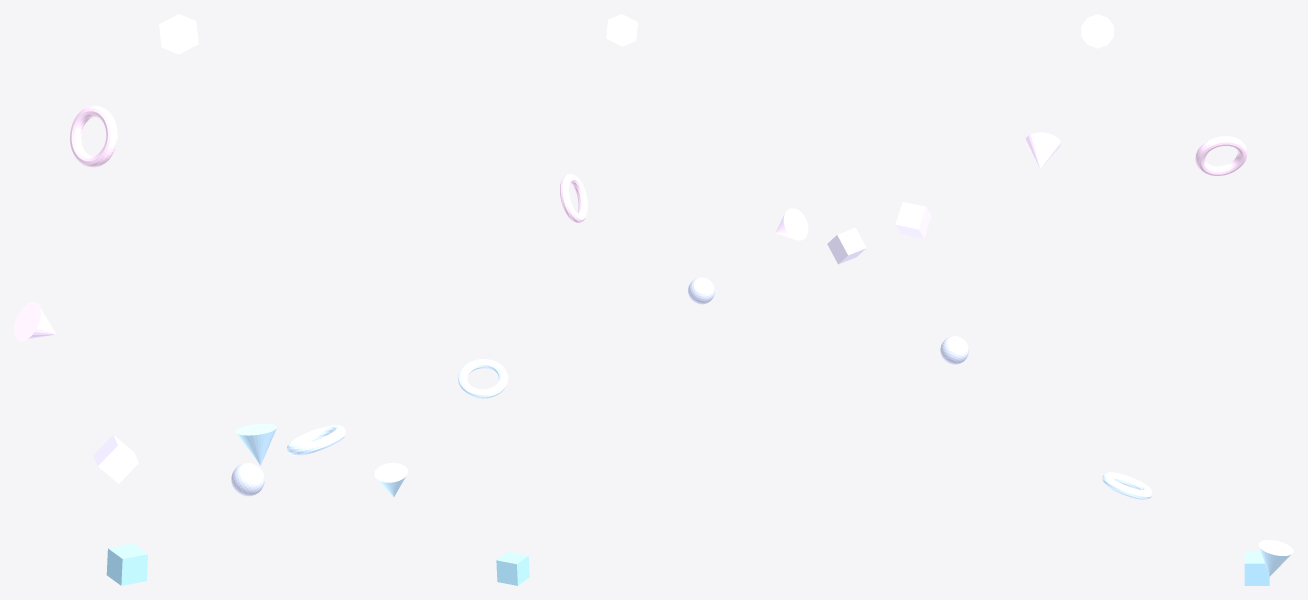
3 views of the same model, side by side, from view 1: azimuth 30°, elevation 25°; view 2: azimuth 150°, elevation 25°; view 3: azimuth 270°, elevation 25° (orthographic). The views are drawn at different scales.
Parts seen in each view (by area): view 1: Piece_worldfold_6, Piece_worldfold_0, Piece_worldfold_4, VFXProxy_worldfold, Piece_worldfold_2, Piece_worldfold_5, Piece_worldfold_1, Piece_worldfold_3; view 2: Piece_worldfold_2, Piece_worldfold_0, Piece_worldfold_6, Piece_worldfold_4, VFXProxy_worldfold, Piece_worldfold_5, Piece_worldfold_1; view 3: Piece_worldfold_6, Piece_worldfold_4, VFXProxy_worldfold, Piece_worldfold_2, Piece_worldfold_5, Piece_worldfold_1, Piece_worldfold_0, Piece_worldfold_3.
Part boxes in pixels (box(x1,y1,x2,y2)): Piece_worldfold_6: box(70, 105, 117, 167); Piece_worldfold_0: box(106, 543, 147, 585); Piece_worldfold_4: box(93, 435, 138, 483); VFXProxy_worldfold: box(159, 14, 198, 54); Piece_worldfold_2: box(287, 425, 345, 455); Piece_worldfold_5: box(14, 302, 56, 341); Piece_worldfold_1: box(235, 423, 276, 465); Piece_worldfold_3: box(231, 463, 264, 496); Piece_worldfold_2: box(458, 359, 508, 398); Piece_worldfold_0: box(496, 551, 529, 585); Piece_worldfold_6: box(560, 174, 588, 222); Piece_worldfold_4: box(827, 227, 866, 264); VFXProxy_worldfold: box(606, 14, 638, 46); Piece_worldfold_5: box(775, 208, 808, 240); Piece_worldfold_1: box(374, 463, 407, 496); Piece_worldfold_6: box(1195, 136, 1247, 175); Piece_worldfold_4: box(895, 202, 931, 238); VFXProxy_worldfold: box(1081, 14, 1113, 48); Piece_worldfold_2: box(1102, 472, 1152, 499); Piece_worldfold_5: box(1025, 132, 1060, 168); Piece_worldfold_1: box(1258, 540, 1293, 576); Piece_worldfold_0: box(1244, 552, 1269, 585); Piece_worldfold_3: box(940, 336, 968, 364).
Bounding box in the file's own units: 0.811 × 1.27 × 0.8325.
